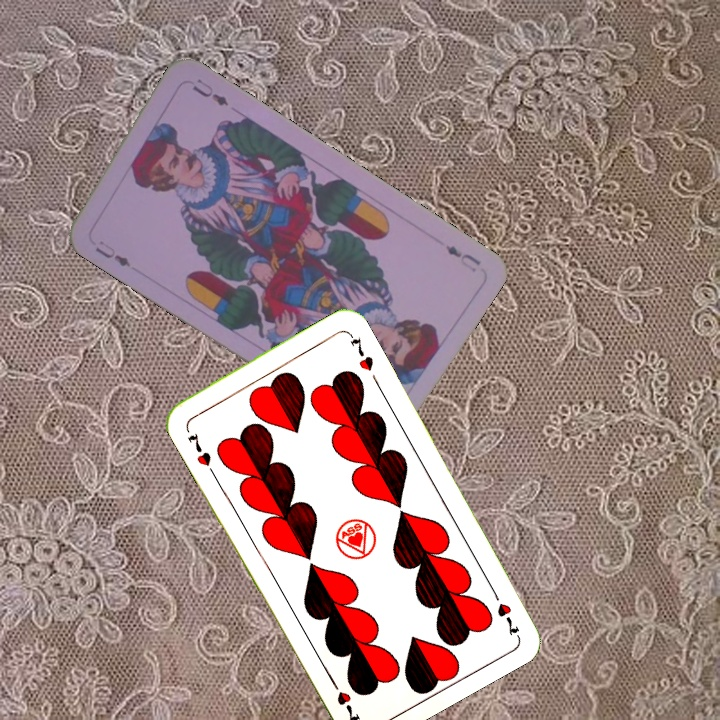EU: (91, 236, 134, 270), (441, 241, 483, 275)
H7: (487, 584, 522, 639), (183, 428, 214, 469)
